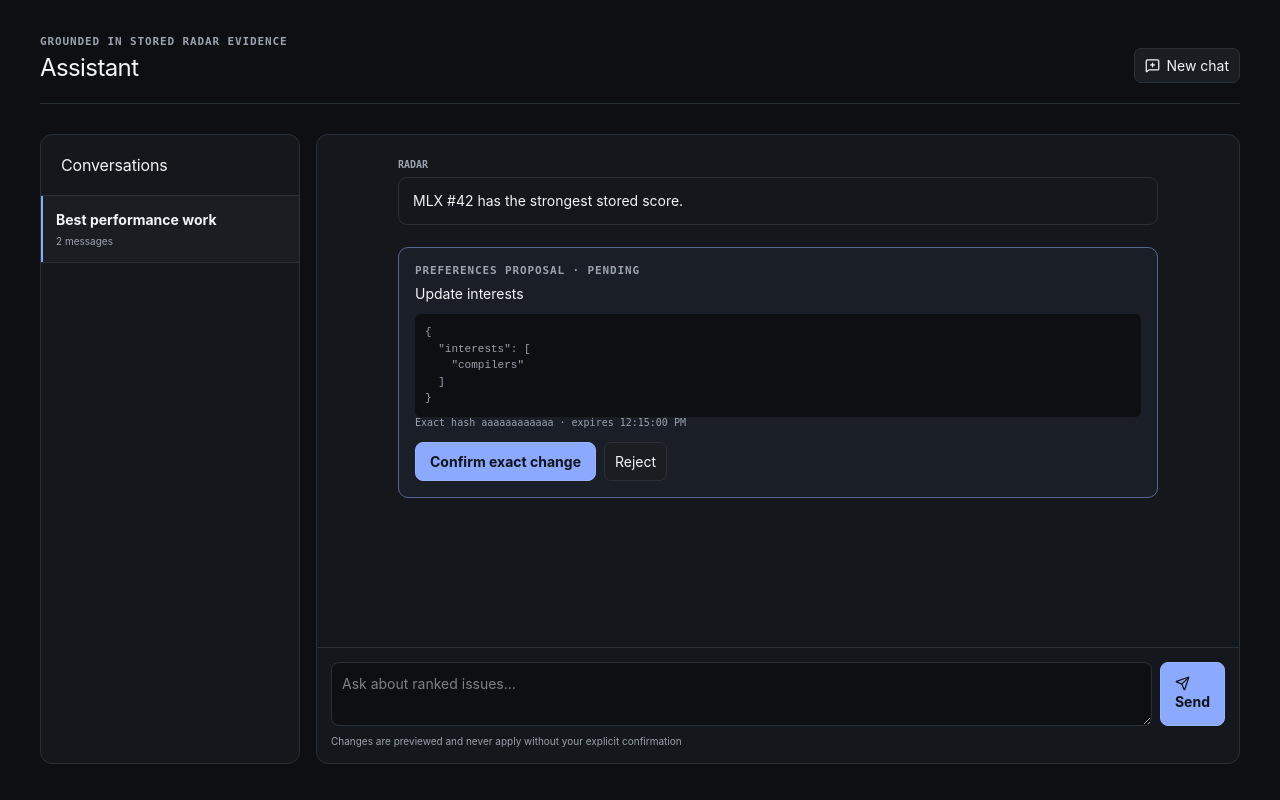
Test: previews exact arguments before a separate confirmation
expect the text "{ \"interests\": [ \"compilers\" ] }" is shown: met, box [415, 314, 1141, 417]
Click the button "Confirm exact change": (506, 461) [415, 442, 596, 481]
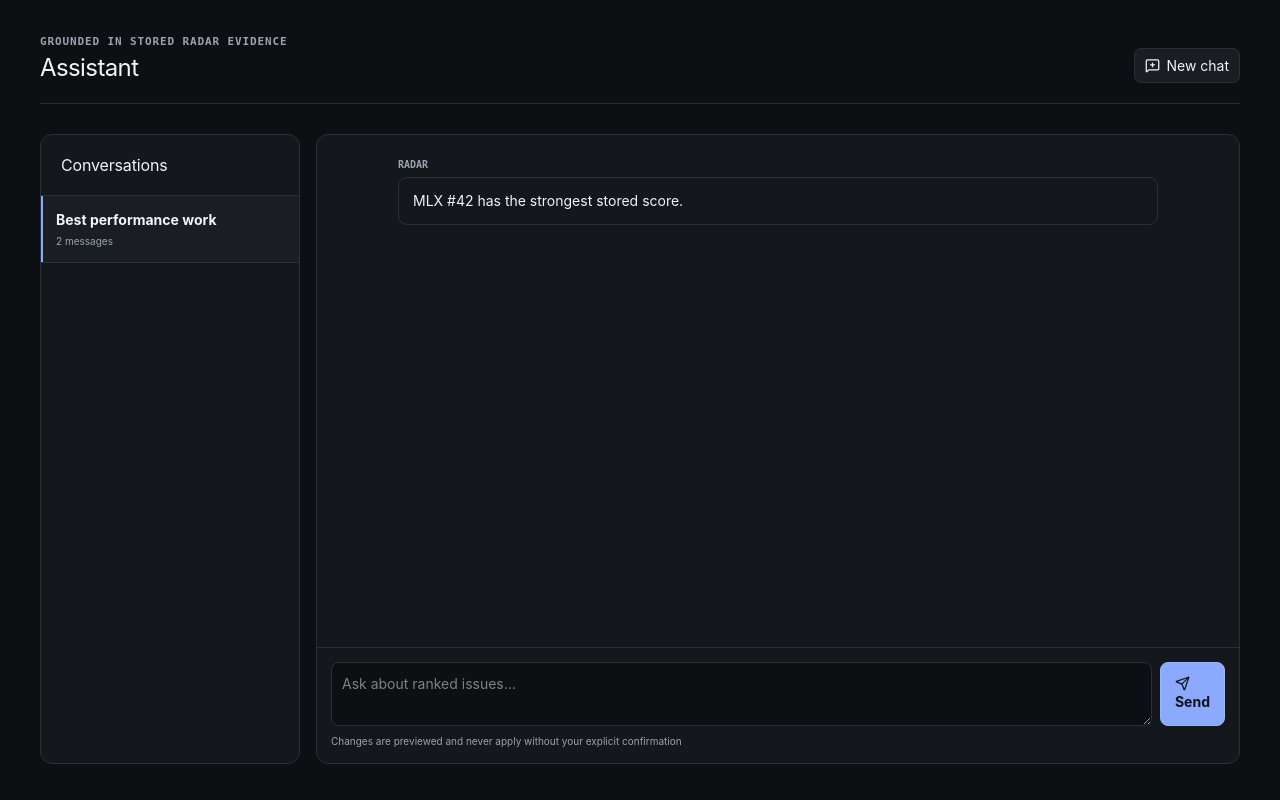
expect the button "Confirm exact change" is gone: met
